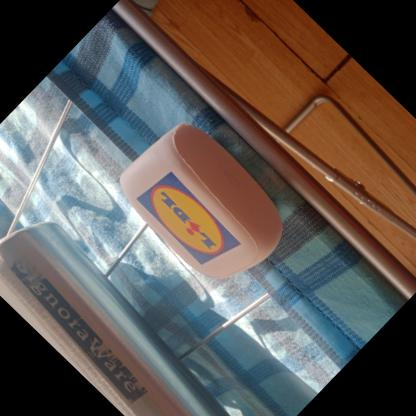Cube: (101, 101, 308, 307)
